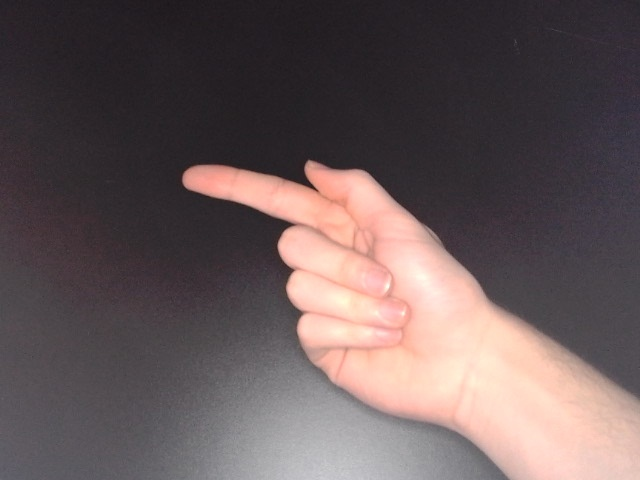g: (178, 155, 502, 449)
